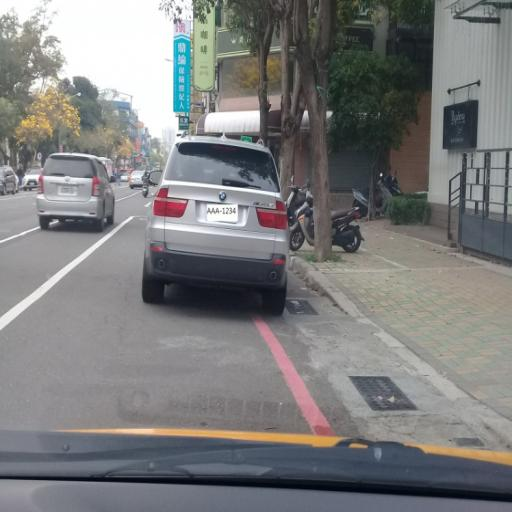MIU: (224, 251, 308, 374)
car: (134, 113, 299, 313), (32, 136, 116, 233)
redline: (242, 302, 337, 437)
